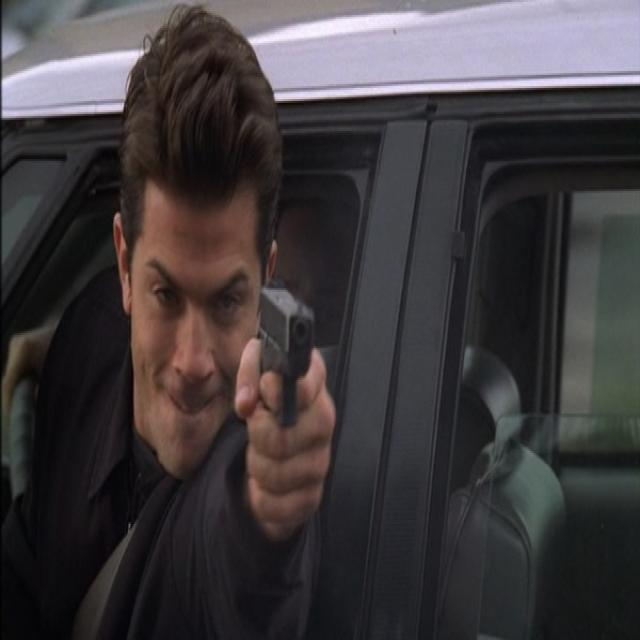weapons: (230, 256, 340, 510)
